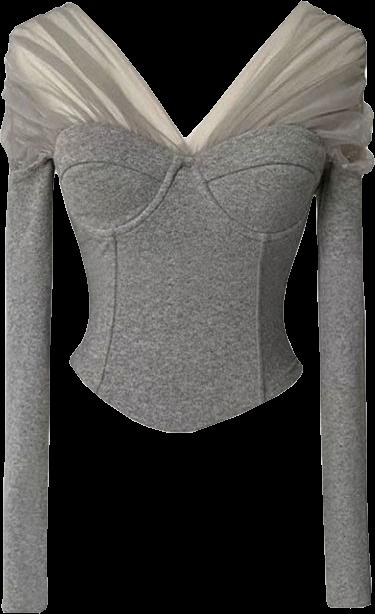Bodice: (0, 0, 374, 432)
Neckline: (68, 0, 307, 142), (68, 156, 309, 240), (50, 121, 332, 162)
Sleeve: (314, 154, 370, 608), (1, 158, 54, 612)
Sleeveline: (320, 152, 366, 177), (9, 153, 58, 170)
Waistline: (67, 359, 307, 439)
